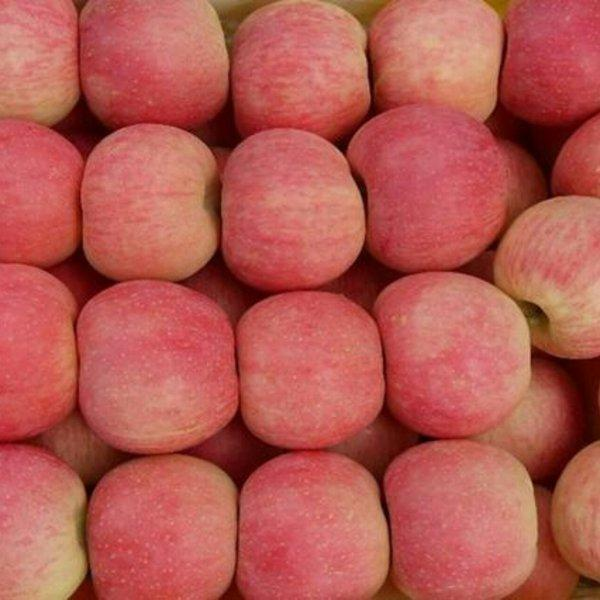apple: (75, 277, 237, 455), (342, 102, 507, 273), (370, 269, 531, 439), (379, 437, 550, 596), (217, 129, 363, 295), (76, 122, 219, 284), (232, 450, 389, 596), (57, 1, 226, 135), (82, 452, 238, 597), (227, 1, 367, 133), (491, 194, 600, 361), (365, 2, 503, 125), (1, 261, 76, 441), (3, 442, 88, 596), (500, 2, 595, 130), (1, 121, 81, 264), (1, 2, 81, 130)
